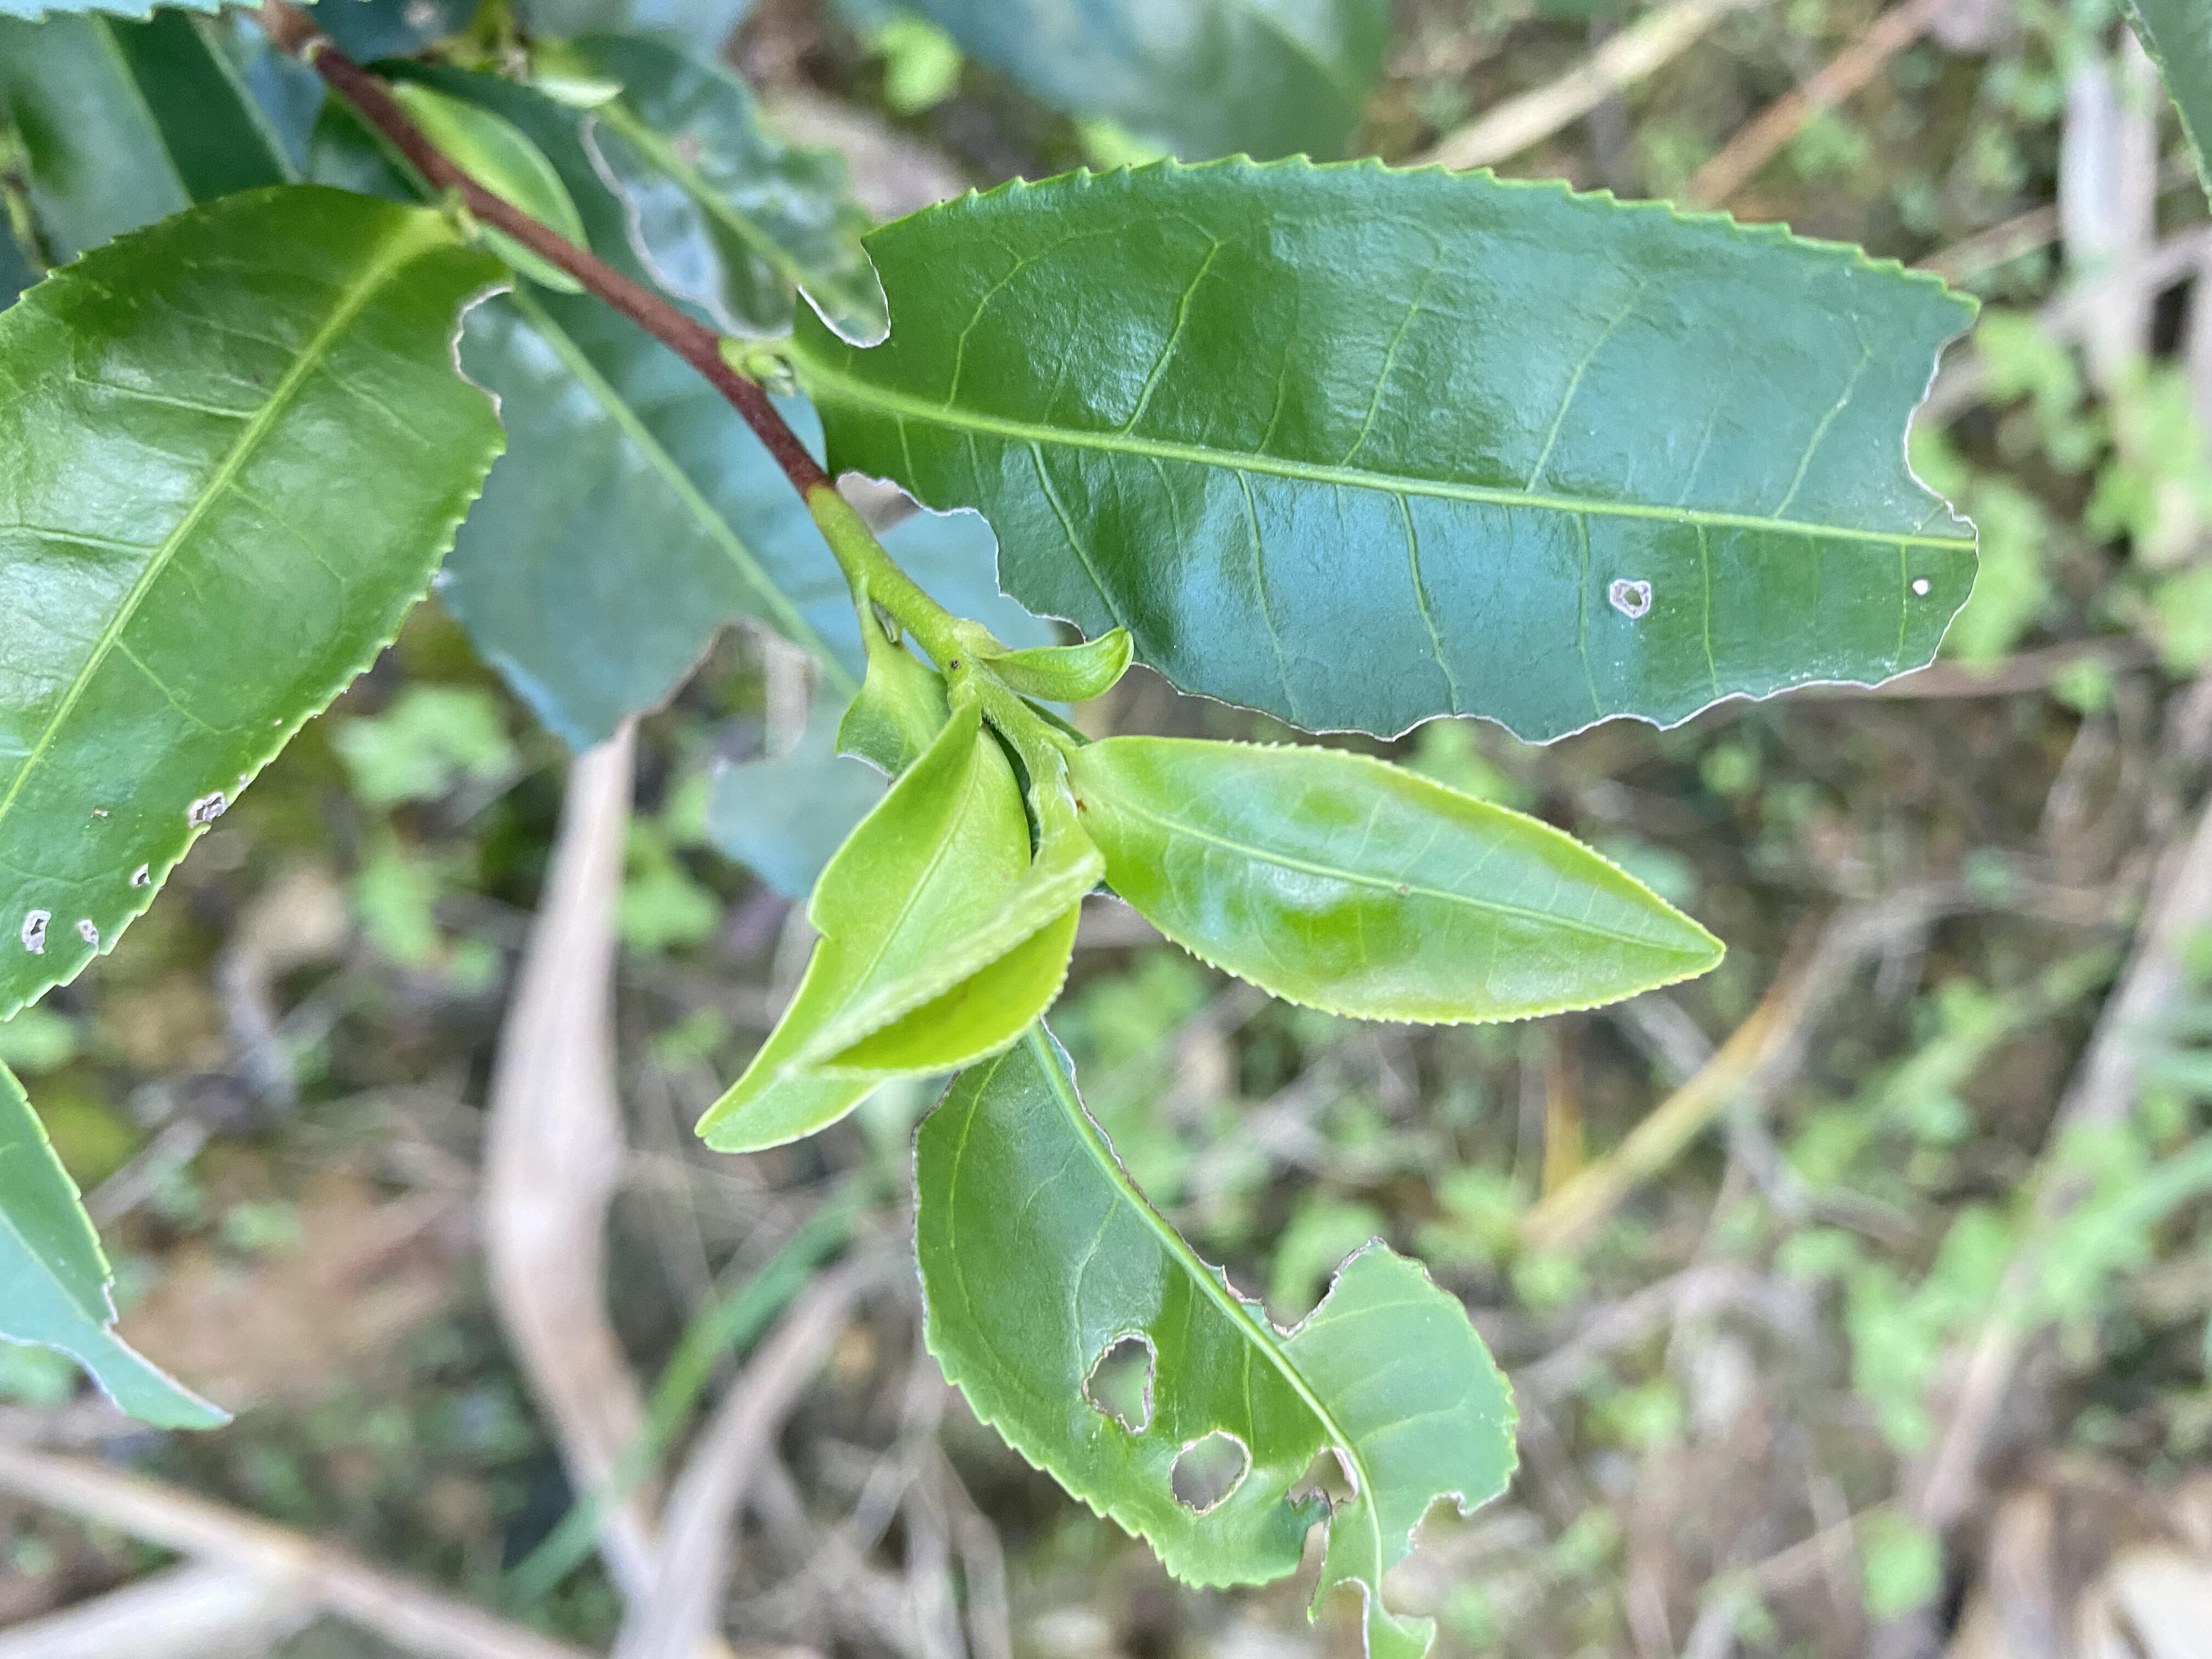chihuo_high: (796, 146, 1987, 749), (2, 183, 516, 1030), (911, 1018, 1526, 1659)
healthy: (1066, 732, 1726, 1026), (697, 688, 1033, 1155)
